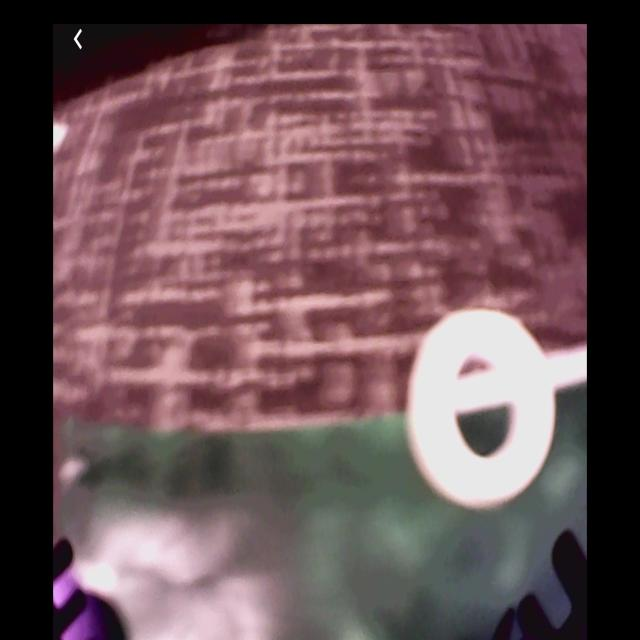ball: (55, 549, 110, 639)
